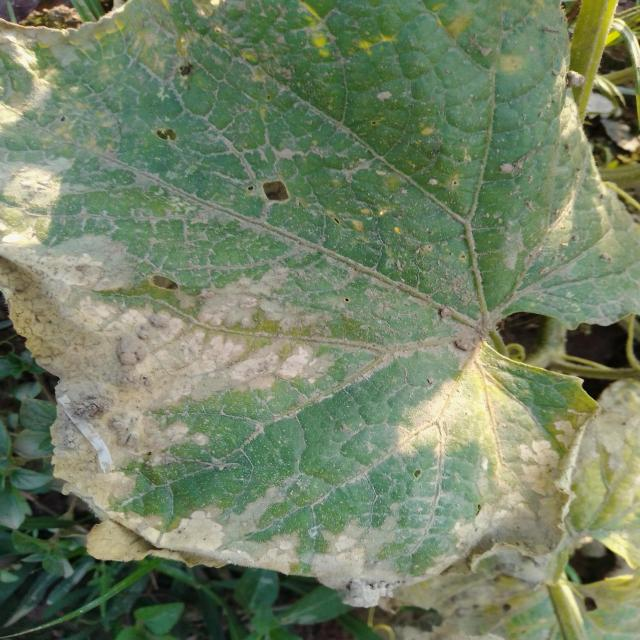cucumber_gummy: (0, 0, 637, 624)
